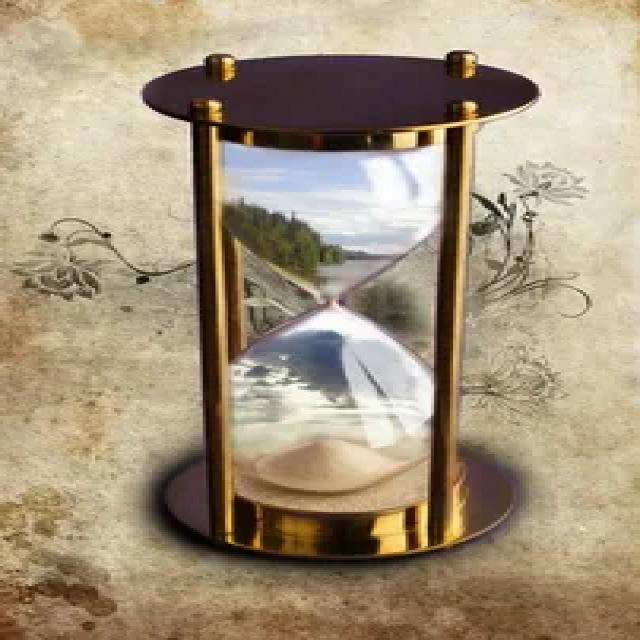clock: (121, 42, 540, 572)
